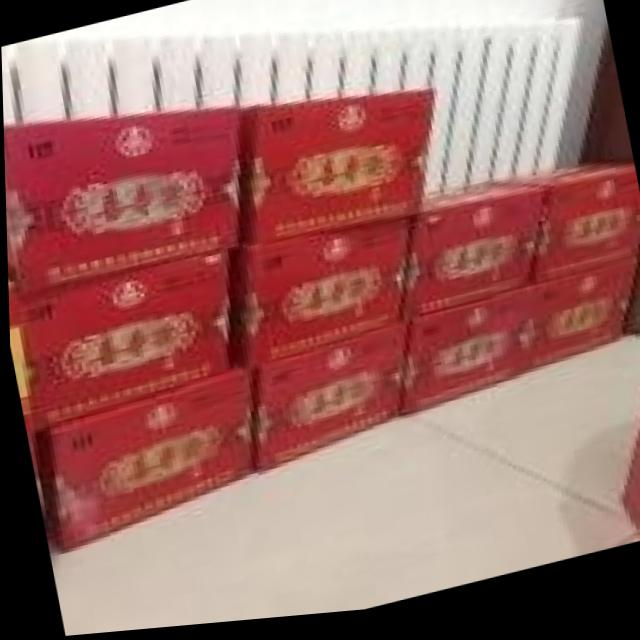box: (3, 111, 242, 293), (7, 255, 230, 438), (48, 366, 252, 552), (240, 98, 436, 248), (230, 225, 412, 375), (251, 328, 403, 478), (406, 191, 545, 324), (400, 293, 528, 423), (516, 171, 640, 290), (524, 268, 638, 380), (616, 437, 640, 548)
